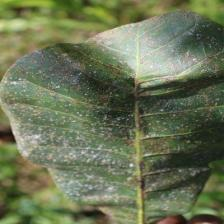red rust: (0, 9, 224, 223)
